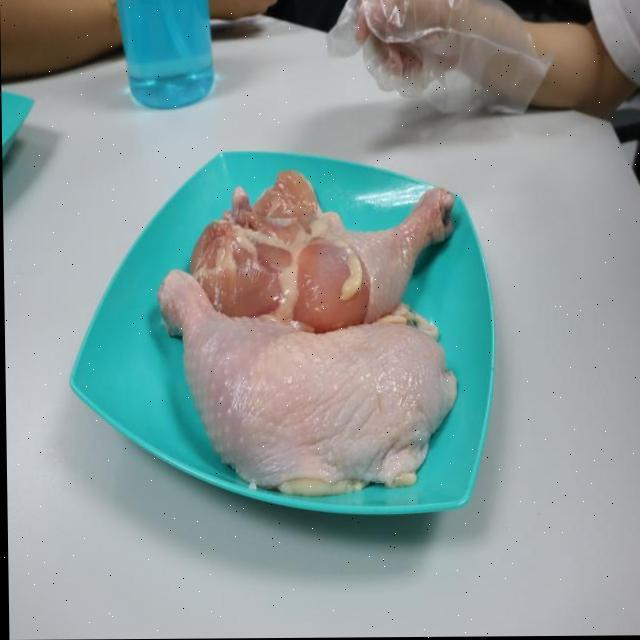quater: (154, 274, 446, 506), (197, 188, 476, 324)
